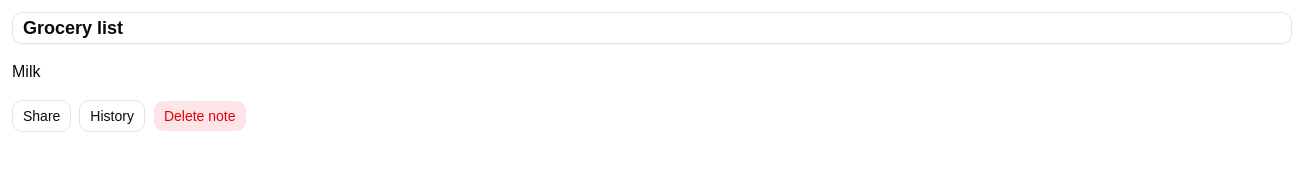
Test: NoteEditorPage › shows saving/saved status around an autosave
The width and height of the screenshot is (1304, 185).
Type "!" into the field named "title". click: (652, 28)
box: [12,12,1292,44]
Wait 2000 ms
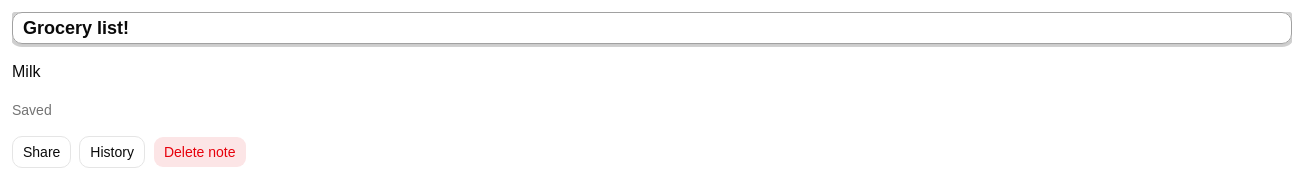
Check: the text "Saved" is shown, box [12,102,52,118]
